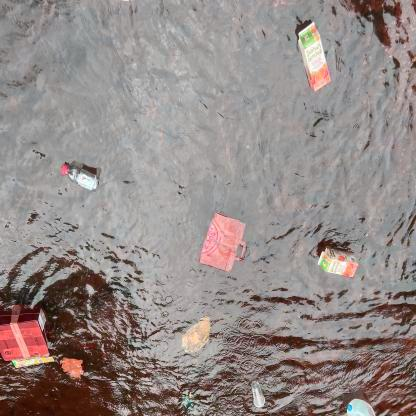Metal: (196, 206, 254, 276)
Plastic: (58, 154, 101, 198), (180, 309, 214, 358), (244, 374, 270, 412), (343, 390, 379, 416)
